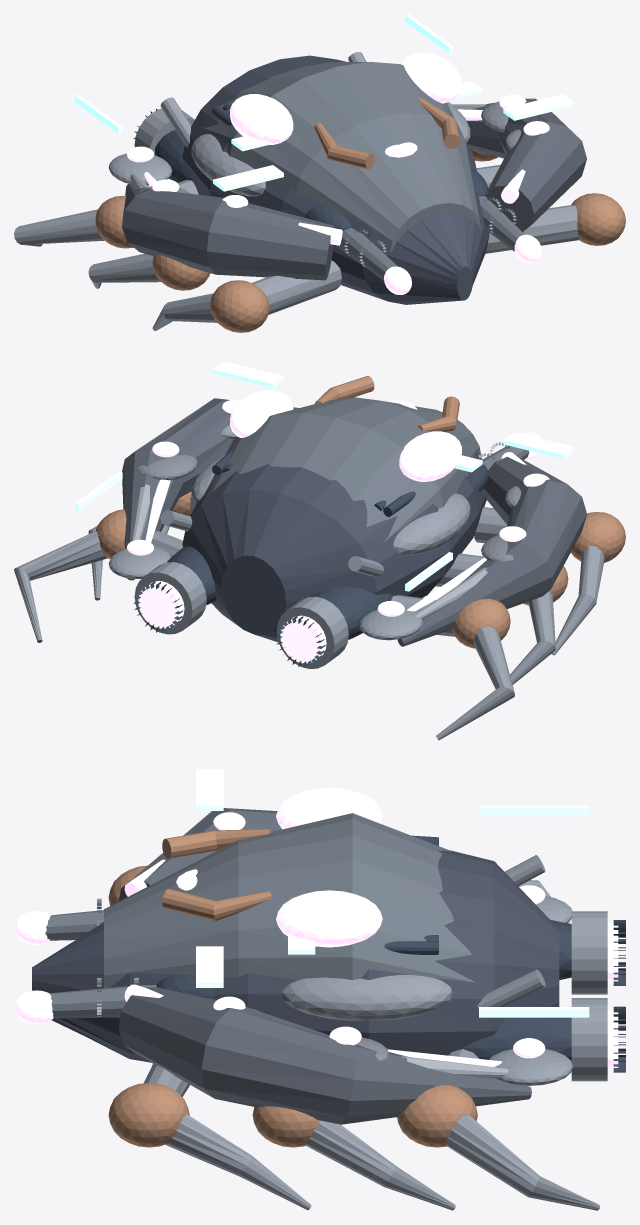
File: npc_lordakia.glb
3 views of the same model, one above another, from view 1: azimuth 30°, elevation 25°; view 2: azimuth 150°, elevation 25°; view 3: azimuth 270°, elevation 25° (orthographic). The views are drawn at different scales.
Visible parts, largest first — view 1: upper_armor_scar, armored_scythe_-1, keel_pressure_hull, armored_scythe_1, V59 trim baked, vrx_spider_leg_-1_0, vrx_joint_-1_0, vrx_venom_cell_-1, vrx_spider_leg_-1_2, vrx_joint_1_0, vrx_venom_cell_1, heavy_shield_pad_-1 (+18 smaller); view 2: keel_pressure_hull, upper_armor_scar, armored_scythe_-1, armored_scythe_1, V59 trim baked, vrx_spider_leg_1_2, vrx_spider_leg_-1_2, vrx_spider_leg_-1_0, heavy_shield_pad_-1, vrx_venom_cell_-1, vrx_spider_leg_-1_1, exhaust_coil_-1 (+21 smaller); view 3: upper_armor_scar, keel_pressure_hull, armored_scythe_1, heavy_shield_pad_1, V59 trim baked, vrx_venom_cell_1, vrx_spider_leg_1_2, vrx_spider_leg_1_0, vrx_joint_1_0, vrx_spider_leg_1_1, vrx_joint_1_2, exhaust_coil_-1 (+22 smaller).
Boxes of the visible parts, box(x1,y1,x2,y2) form: upper_armor_scar: box(202, 62, 481, 253); armored_scythe_-1: box(122, 184, 334, 280); keel_pressure_hull: box(182, 55, 489, 304); armored_scythe_1: box(467, 98, 586, 231); V59 trim baked: box(74, 14, 574, 191); vrx_spider_leg_-1_0: box(152, 260, 341, 330); vrx_joint_-1_0: box(210, 280, 269, 332); vrx_venom_cell_-1: box(230, 94, 293, 144); vrx_spider_leg_-1_2: box(14, 180, 198, 246); vrx_joint_1_0: box(571, 193, 625, 245); vrx_venom_cell_1: box(400, 53, 461, 103); heavy_shield_pad_-1: box(191, 134, 265, 196); keel_pressure_hull: box(182, 450, 486, 642); upper_armor_scar: box(199, 397, 481, 542); armored_scythe_-1: box(397, 456, 586, 646); armored_scythe_1: box(122, 398, 298, 580); V59 trim baked: box(74, 361, 574, 591); vrx_spider_leg_1_2: box(14, 531, 182, 642); vrx_spider_leg_-1_2: box(391, 595, 514, 740); vrx_spider_leg_-1_0: box(474, 507, 604, 655); heavy_shield_pad_-1: box(393, 493, 470, 555); vrx_venom_cell_-1: box(399, 431, 461, 481); vrx_spider_leg_-1_1: box(435, 553, 555, 684); exhaust_coil_-1: box(276, 596, 348, 668); upper_armor_scar: box(104, 813, 475, 988); keel_pressure_hull: box(32, 850, 559, 1062); armored_scythe_1: box(118, 987, 531, 1124); heavy_shield_pad_1: box(282, 975, 452, 1020); V59 trim baked: box(196, 769, 589, 1017); vrx_venom_cell_1: box(276, 890, 382, 947); vrx_spider_leg_1_2: box(445, 1049, 599, 1210); vrx_spider_leg_1_0: box(144, 1063, 311, 1210); vrx_joint_1_0: box(108, 1083, 189, 1147); vrx_spider_leg_1_1: box(306, 1120, 455, 1210); vrx_joint_1_2: box(397, 1085, 477, 1147); exhaust_coil_-1: box(571, 911, 607, 994).
Bounding box in the file's own units: 3.2 × 1.24 × 2.71.
